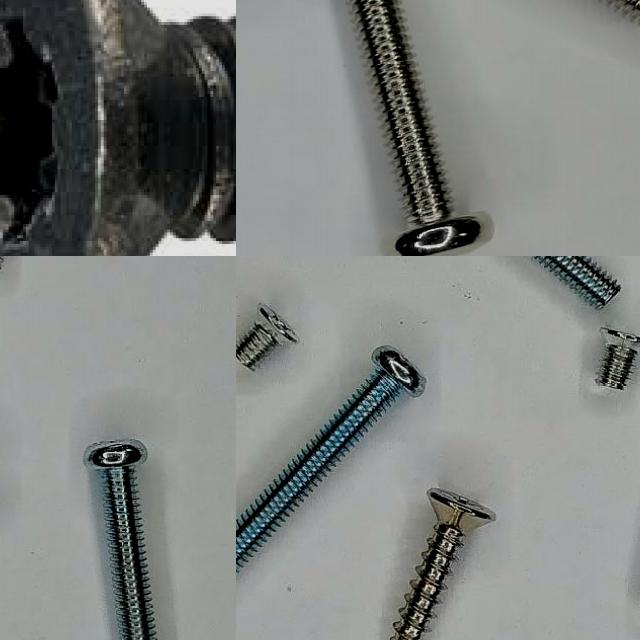Screw: (0, 0, 236, 256), (236, 347, 425, 574), (353, 0, 481, 256), (391, 489, 496, 640), (86, 441, 158, 640), (532, 256, 622, 309), (236, 304, 298, 369), (597, 327, 640, 390)
